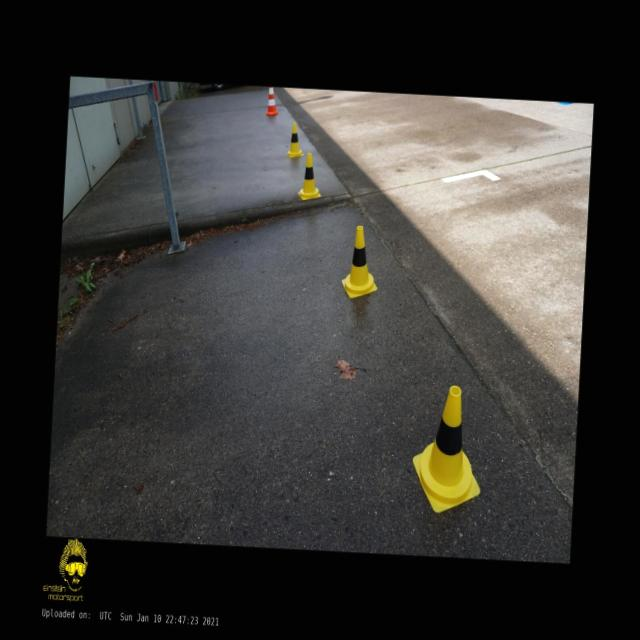large_orange_cone: (266, 86, 280, 116)
yellow_cone: (410, 384, 486, 514), (340, 224, 380, 300), (298, 152, 324, 202), (287, 122, 305, 158)
